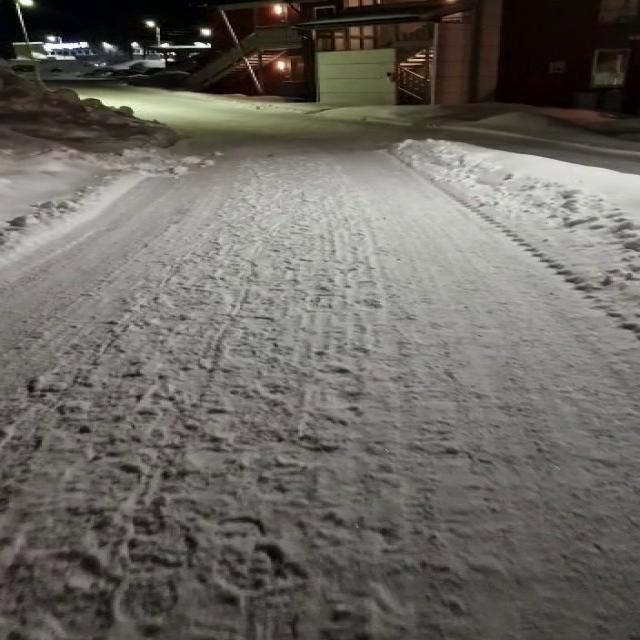path: (2, 86, 638, 640)
